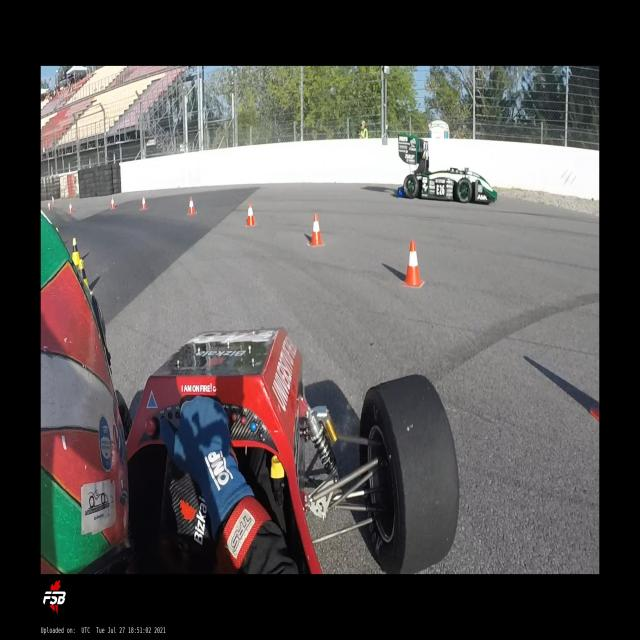orange_cone: (401, 240, 424, 287), (308, 212, 324, 246), (246, 201, 256, 227), (188, 196, 196, 216), (141, 196, 148, 210), (110, 196, 115, 210), (68, 202, 72, 214), (48, 202, 51, 210)
yellow_cone: (78, 258, 93, 295), (72, 237, 84, 265)
